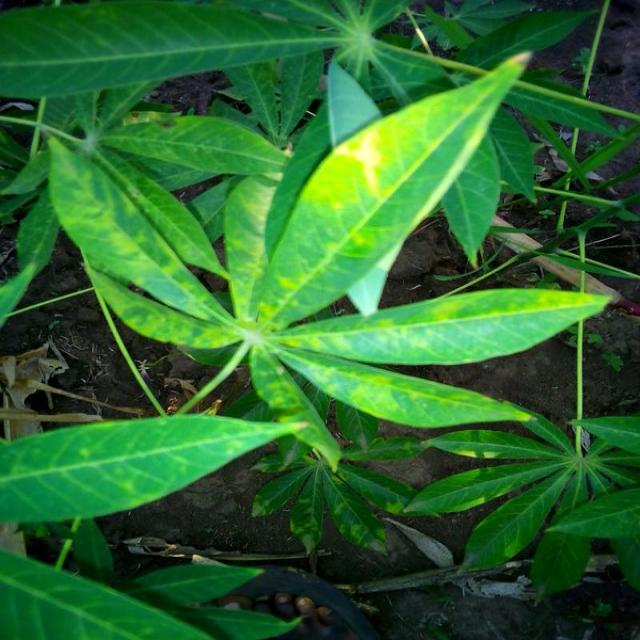cassava leaf: (3, 48, 612, 544), (250, 48, 534, 330), (1, 411, 309, 524)
